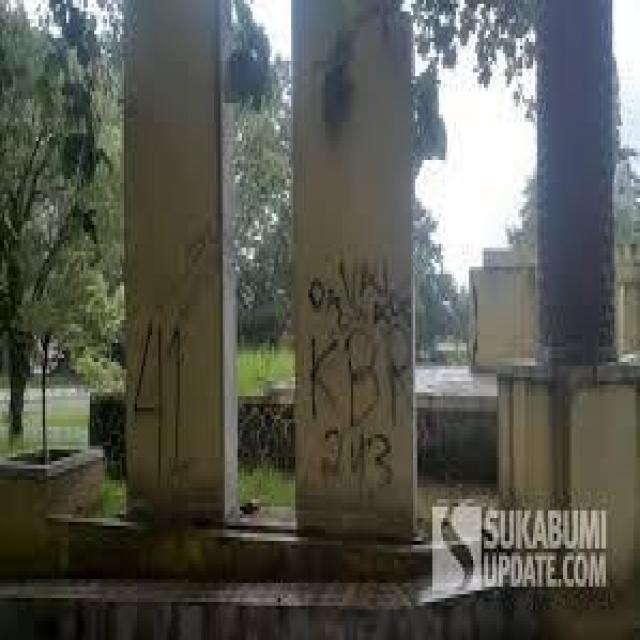nonspitting: (308, 258, 416, 491), (132, 316, 182, 483)
